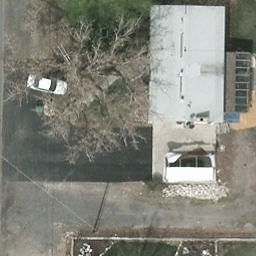car: (25, 73, 69, 97)
